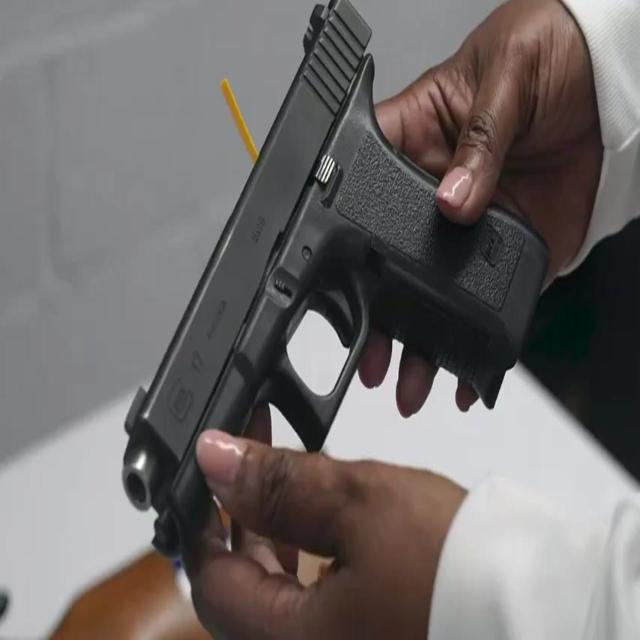HandGun: (121, 0, 549, 562)
